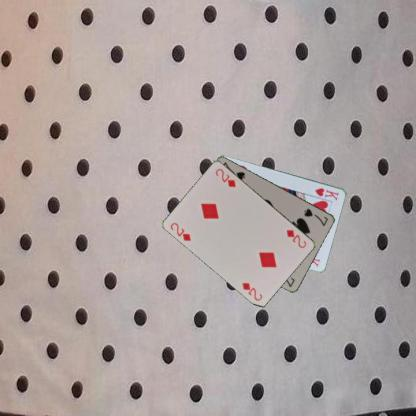2d: (284, 227, 308, 250), (168, 220, 193, 242)
7s: (302, 206, 329, 227)
Kh: (313, 185, 340, 202)
